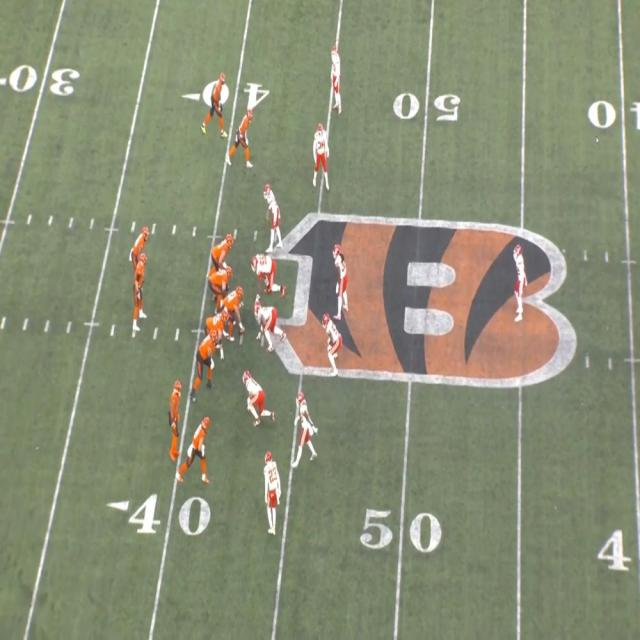center: (227, 288, 250, 331)
db: (261, 450, 284, 522), (294, 394, 316, 460), (308, 124, 328, 182), (513, 244, 525, 322), (327, 50, 341, 114)
lb: (322, 316, 342, 369), (334, 247, 348, 313)
qb: (129, 256, 149, 326)
skill: (182, 416, 212, 481), (198, 77, 231, 130), (232, 113, 254, 165), (170, 378, 185, 428), (129, 232, 147, 271)
